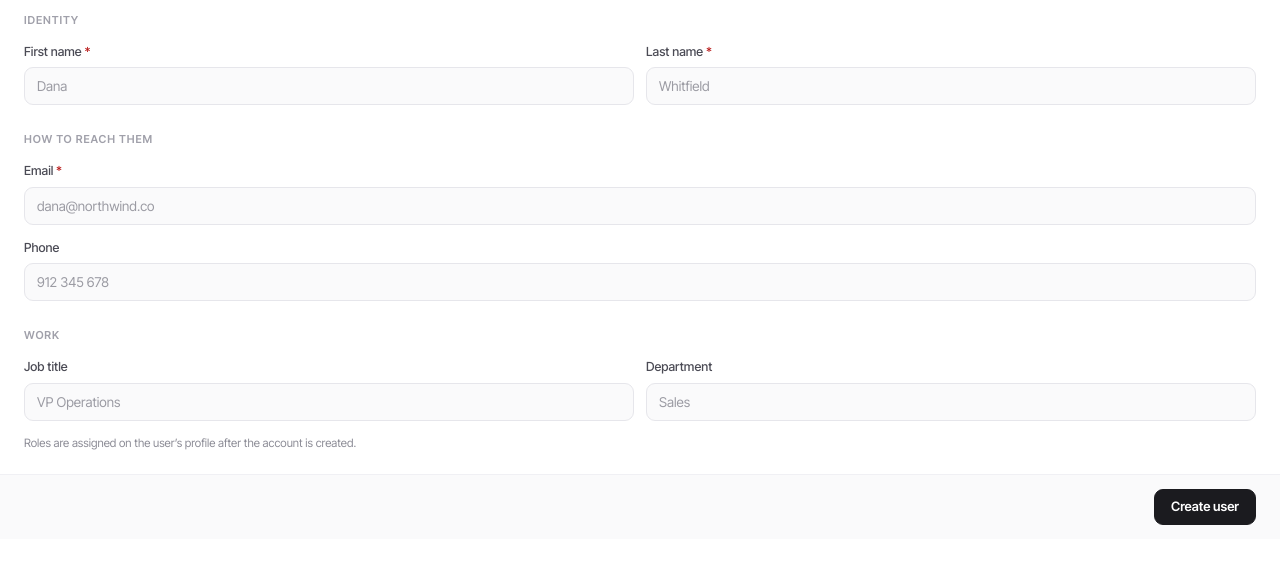
UserForm › create mode › shows validation errors for empty required fields
Click the button "Create user": {"x": 1205, "y": 507} [1154,489,1256,525]
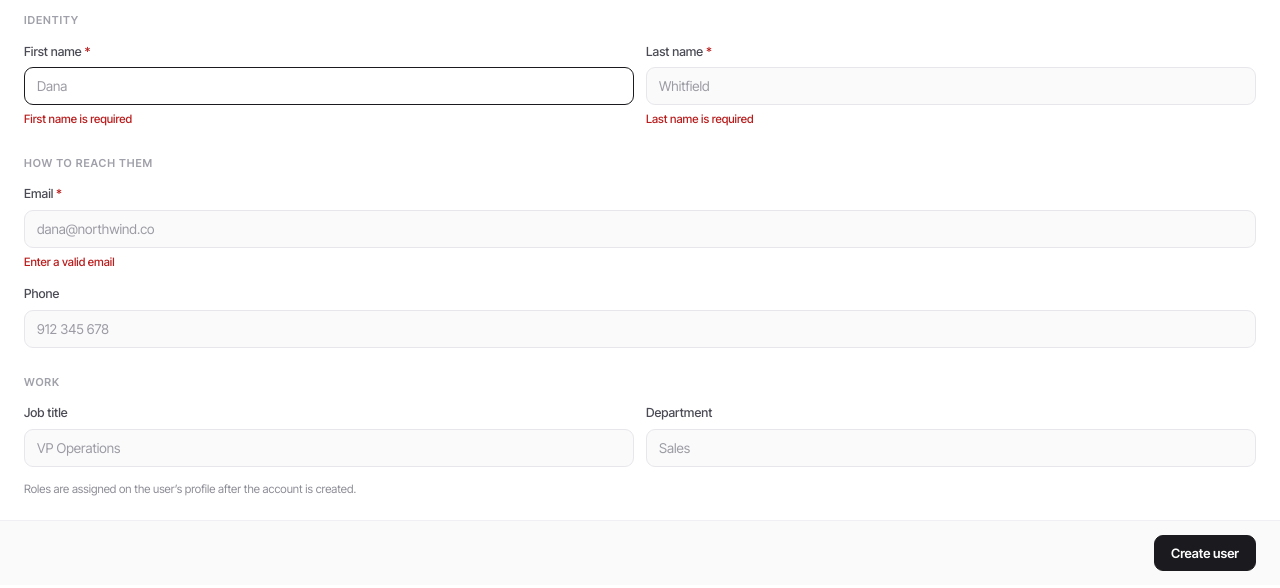
expect the text "Enter a valid email" is shown: met, box [24,255,115,269]
expect the text "First name is required" is shown: met, box [24,112,132,126]
expect the text "Last name is required" is shown: met, box [646,112,754,126]
